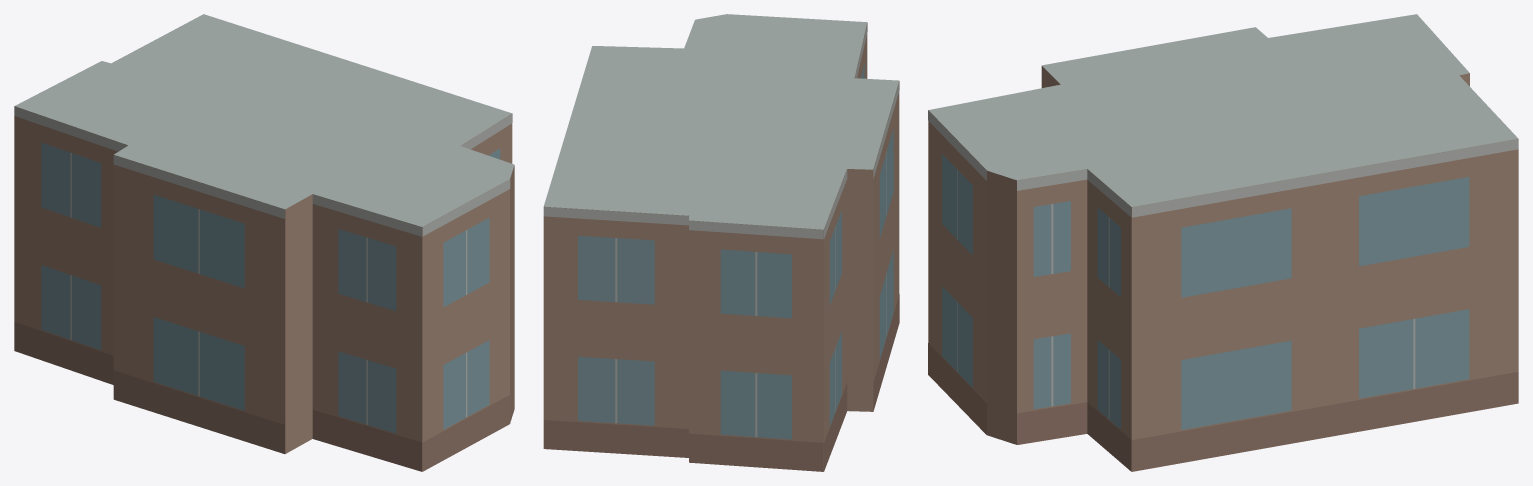
File: survey-upis-32652613.glb
The picture shows the model from 3 angles, left to right: view 1: azimuth 30°, elevation 25°; view 2: azimuth 150°, elevation 25°; view 3: azimuth 270°, elevation 25°; orthographic projection. The views are drawn at different scales.
Parts seen in each view (by area): view 1: survey-upis-32652613.tmp; view 2: survey-upis-32652613.tmp; view 3: survey-upis-32652613.tmp.
Part boxes in pixels (x1,y1,x2,y2): survey-upis-32652613.tmp: (14, 14, 514, 471); survey-upis-32652613.tmp: (543, 14, 899, 471); survey-upis-32652613.tmp: (928, 14, 1518, 471).
Size of the model in its own units: 9.56 by 6.1 by 12.34.
